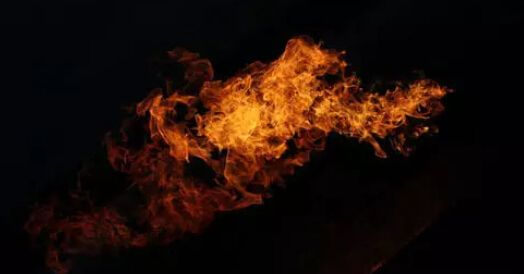fire: (197, 82, 407, 137)
